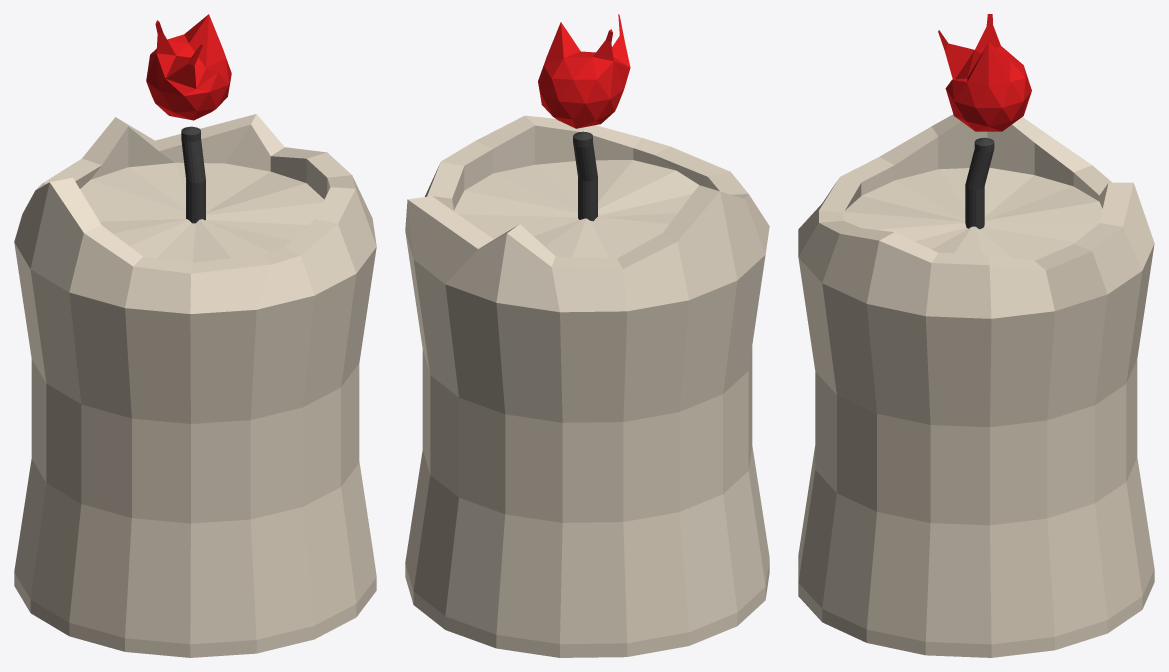
The model's file is Candle_02.fbx.
3 views of the same model, side by side, from view 1: azimuth 30°, elevation 25°; view 2: azimuth 150°, elevation 25°; view 3: azimuth 270°, elevation 25° (orthographic).
Parts seen in each view (by area): view 1: Flame, Candle; view 2: Flame, Candle; view 3: Flame, Candle.
Boxes of the visible parts, x1=… form: Flame: x1=14, y1=114, x2=376, y2=657; Candle: x1=146, y1=14, x2=231, y2=120; Flame: x1=405, y1=115, x2=769, y2=657; Candle: x1=538, y1=14, x2=630, y2=128; Flame: x1=798, y1=114, x2=1154, y2=657; Candle: x1=938, y1=14, x2=1031, y2=131.
Bounding box in the file's own units: 199 × 340 × 198.
